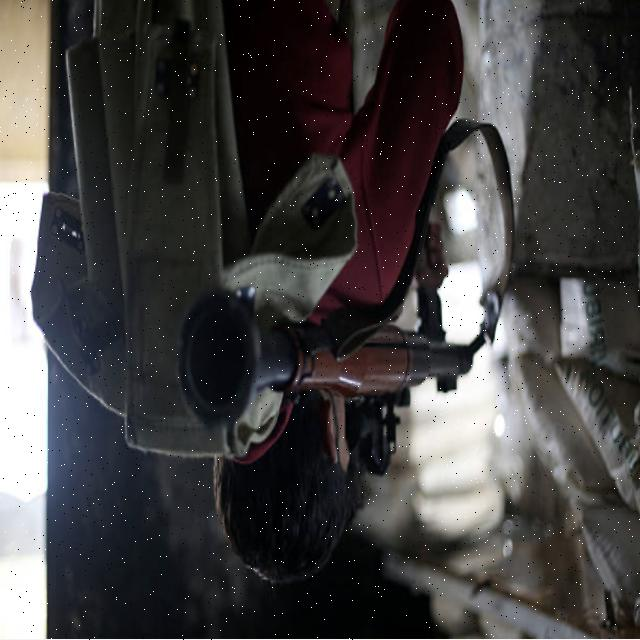bazooka: (170, 288, 479, 434)
